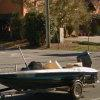Boat: (1, 47, 100, 95)
